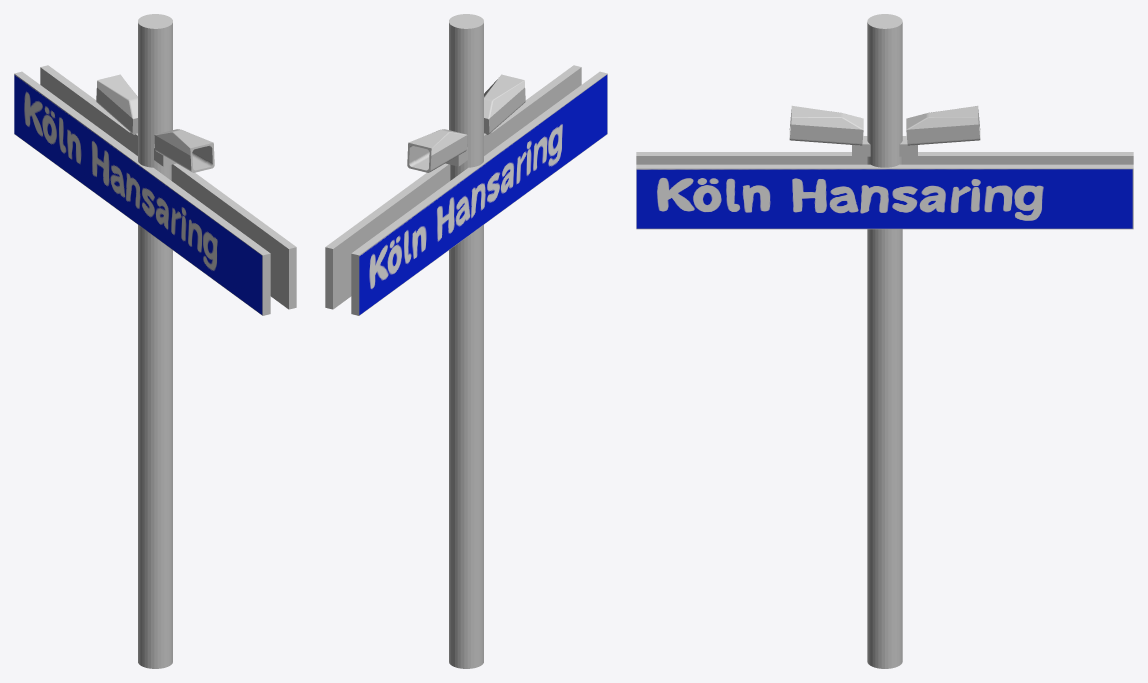
The model's file is Shild.fbx.
The picture shows the model from 3 angles, left to right: view 1: azimuth 30°, elevation 25°; view 2: azimuth 150°, elevation 25°; view 3: azimuth 270°, elevation 25°; orthographic projection.
Parts seen in each view (by area): view 1: Cylinder, Unbenanntes_Projekt 2.001, Shild, Speaker; view 2: Cylinder, Unbenanntes_Projekt 2.001, Shild, Speaker; view 3: Unbenanntes_Projekt 2, Cylinder, Shild, Speaker.
Boxes of the visible parts, x1=… form: Cylinder: x1=138, y1=14, x2=172, y2=668; Unbenanntes_Projekt 2.001: x1=14, y1=74, x2=262, y2=314; Shild: x1=14, y1=65, x2=296, y2=315; Speaker: x1=96, y1=74, x2=214, y2=172; Cylinder: x1=449, y1=14, x2=483, y2=668; Unbenanntes_Projekt 2.001: x1=359, y1=75, x2=607, y2=314; Shild: x1=325, y1=65, x2=607, y2=315; Speaker: x1=407, y1=74, x2=525, y2=172; Unbenanntes_Projekt 2: x1=636, y1=169, x2=1132, y2=228; Cylinder: x1=867, y1=14, x2=902, y2=668; Shild: x1=636, y1=152, x2=1133, y2=229; Speaker: x1=789, y1=105, x2=980, y2=156.
Size of the model in its own units: 12.94 by 231 by 163.
Materials: 2 (2 with a texture image).
